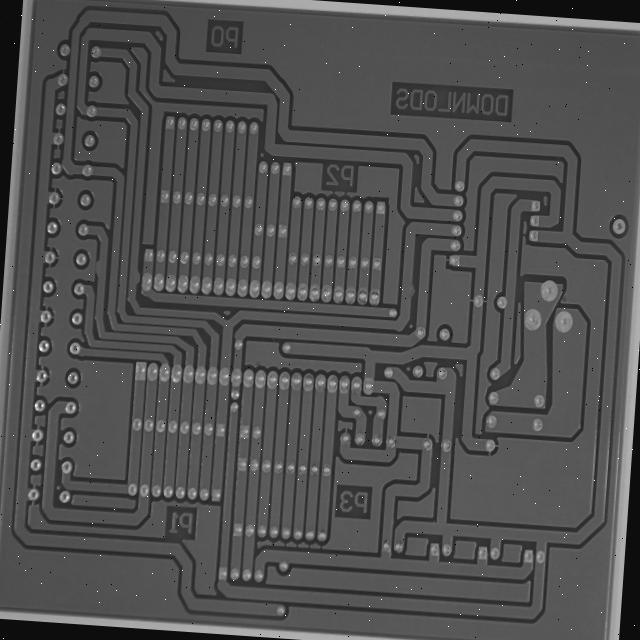spur: (419, 255, 438, 284), (95, 232, 111, 260), (135, 243, 150, 268)
